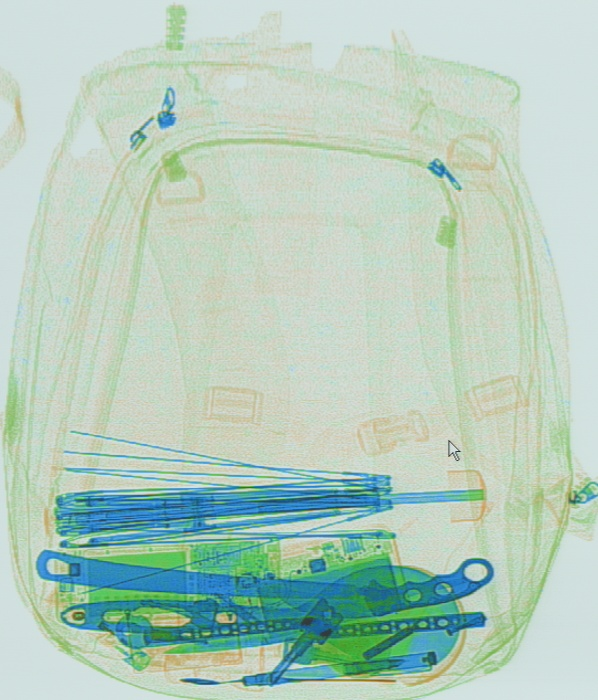knife: (136, 607, 488, 654), (261, 558, 494, 623)
